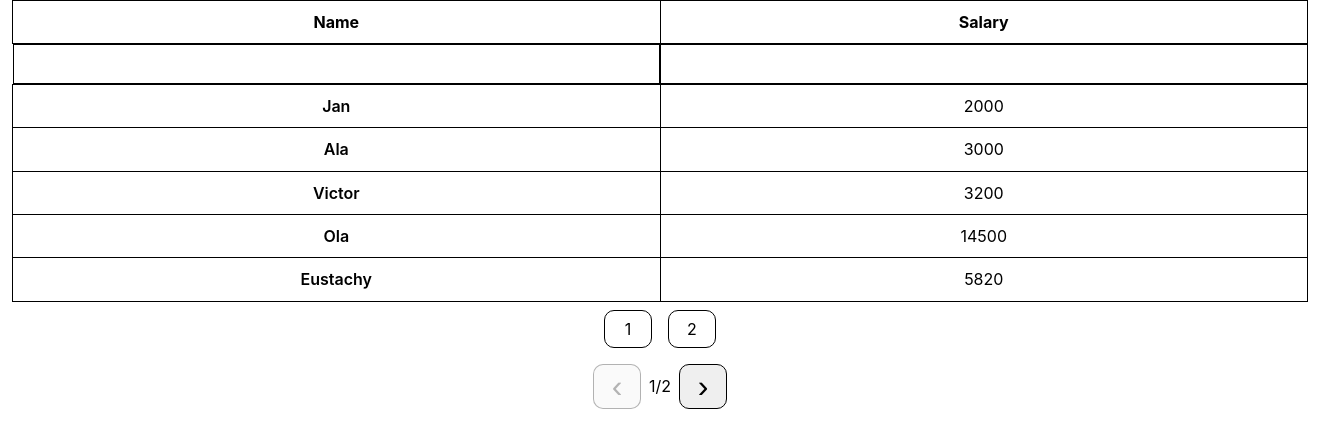
Test case: TableSdk filtering › should filter by name and salary
The width and height of the screenshot is (1325, 426).
Type "al" into the field with test id "name/Input/testid". click: (336, 64)
box: left=12, top=44, right=660, bottom=84
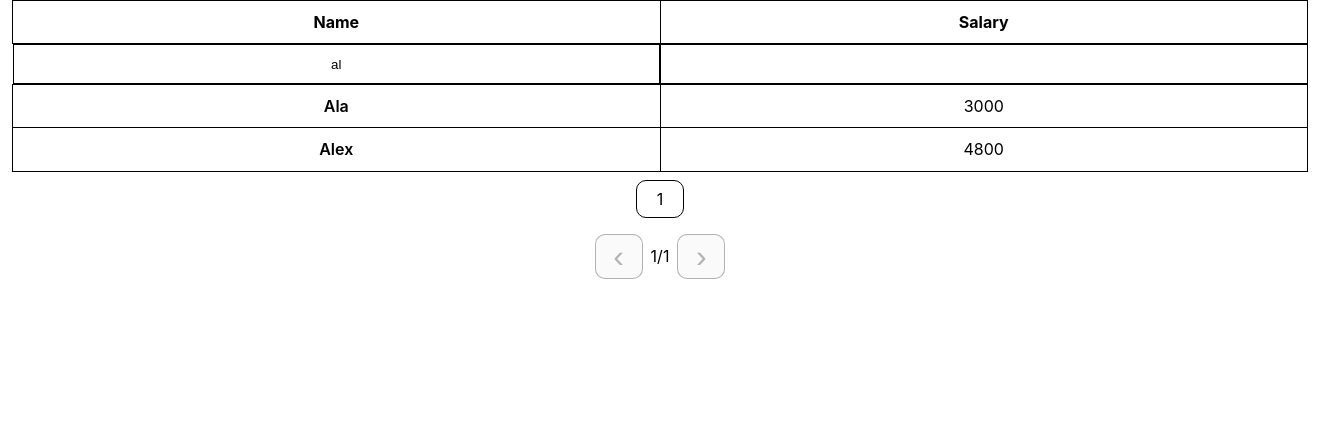
Check: the text "Ala" is shown, box left=12, top=84, right=660, bottom=128
Check: the text "Jan" is gone
Check: the text "Alex" is shown, box left=12, top=128, right=660, bottom=171
Type "3" into the field with test id "salary/Input/testid". click: (984, 64)
box: left=660, top=44, right=1308, bottom=84
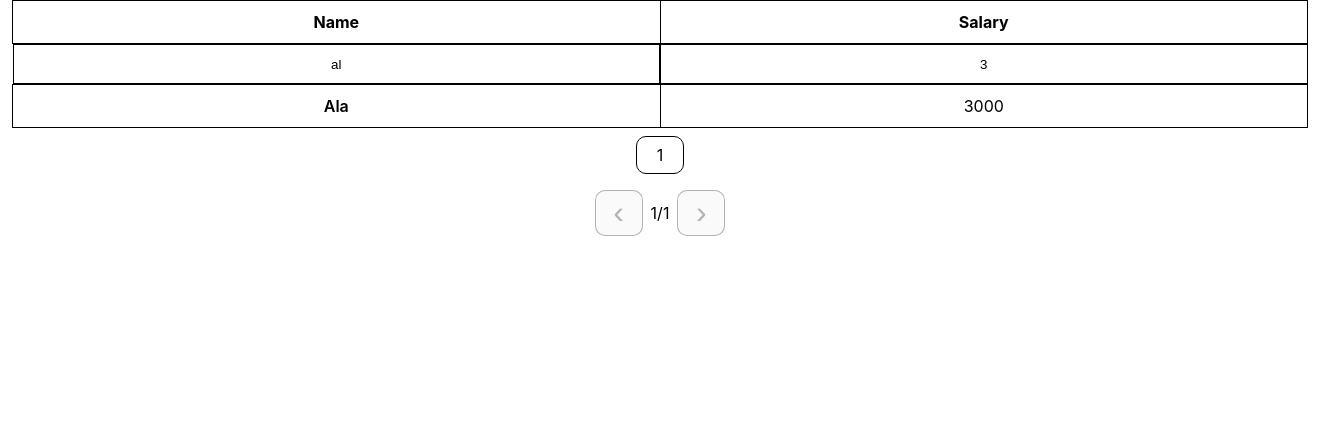
Check: the text "Ala" is shown, box left=12, top=84, right=660, bottom=128
Check: the text "Alex" is gone
